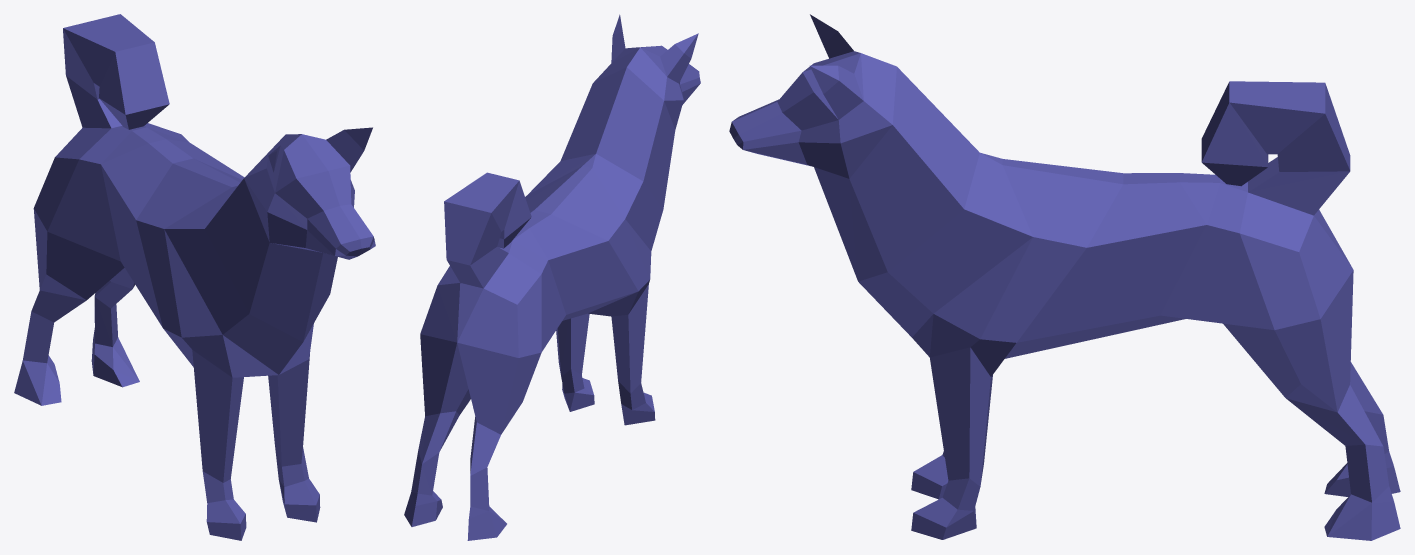
Rendered from dog.fbx.
3 renders of one model, left to right at view 1: azimuth 30°, elevation 25°; view 2: azimuth 150°, elevation 25°; view 3: azimuth 270°, elevation 25°, orthographic. The views are drawn at different scales.
Visible parts, largest first — view 1: shiba_inu_dog_low_poly; view 2: shiba_inu_dog_low_poly; view 3: shiba_inu_dog_low_poly.
Part boxes in pixels (bbox=[...]): shiba_inu_dog_low_poly: bbox=[14, 14, 375, 540]; shiba_inu_dog_low_poly: bbox=[404, 14, 700, 540]; shiba_inu_dog_low_poly: bbox=[729, 14, 1400, 540].
Bounding box in the file's own units: 15.23 × 45.32 × 58.59.
